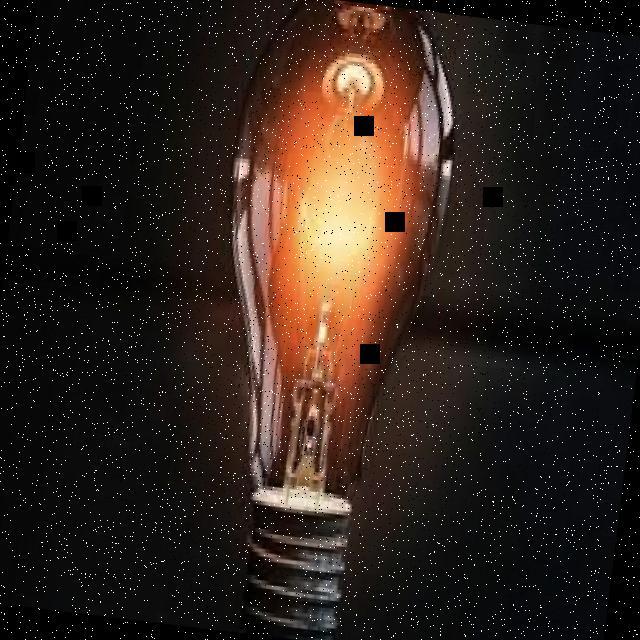light_bulb: (165, 0, 479, 640)
